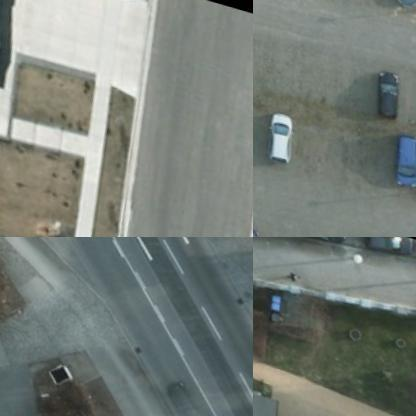car: (366, 62, 406, 122), (257, 106, 294, 168), (383, 129, 415, 187), (362, 237, 415, 259), (283, 237, 355, 252)
